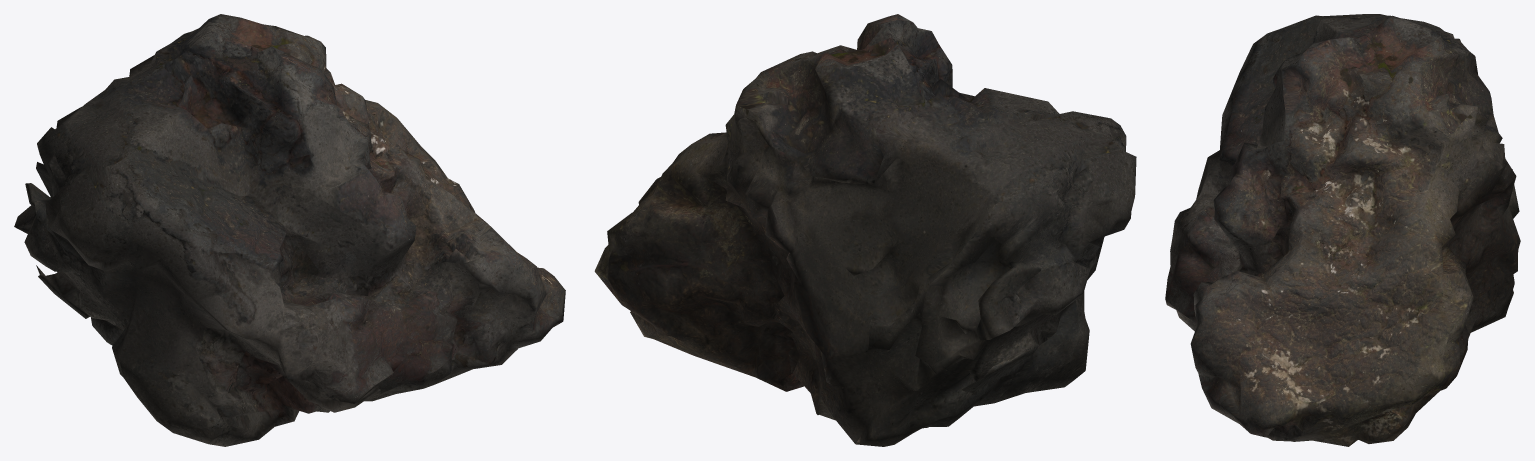
File: SM_yibmaat_tier_2.gltf
The picture shows the model from 3 angles, left to right: view 1: azimuth 30°, elevation 25°; view 2: azimuth 150°, elevation 25°; view 3: azimuth 270°, elevation 25°; orthographic projection. The views are drawn at different scales.
Parts seen in each view (by area): view 1: yibmaat_LOD2_TIER2_000; view 2: yibmaat_LOD2_TIER2_000; view 3: yibmaat_LOD2_TIER2_000.
Part boxes in pixels (bbox=[...]): yibmaat_LOD2_TIER2_000: bbox=[14, 14, 565, 446]; yibmaat_LOD2_TIER2_000: bbox=[594, 14, 1136, 446]; yibmaat_LOD2_TIER2_000: bbox=[1165, 14, 1520, 446].
Size of the model in its own units: 1.05 by 0.7497 by 0.7186.
Materials: 1 (1 with a texture image).
